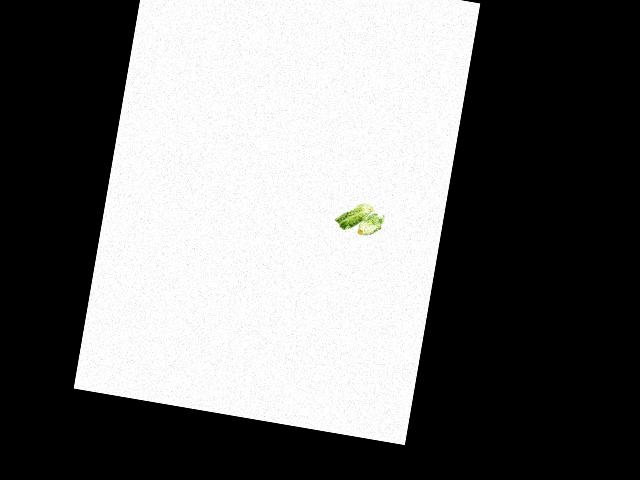lettuce: (354, 209, 386, 242)
